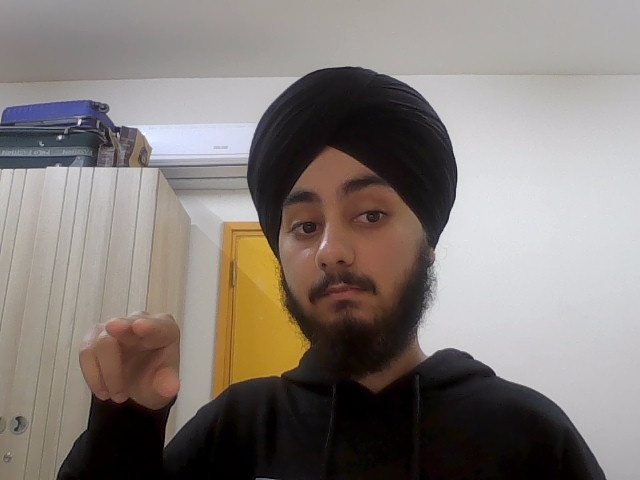No: (78, 302, 188, 411)
